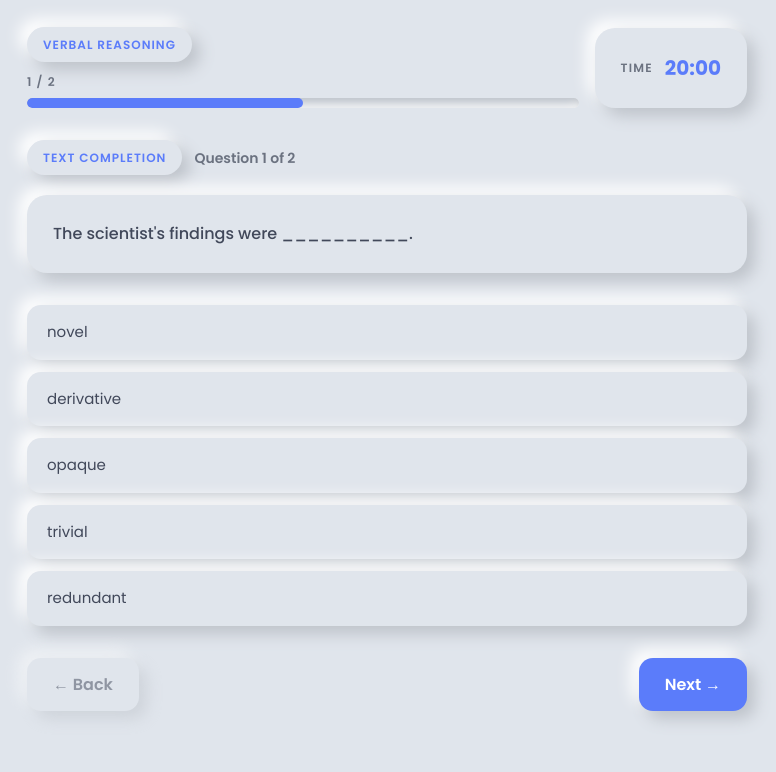
Test: Quiz page smoke › loads questions and advances through the quiz
Expected: the text "The scientist's findings were __________." is shown, [53, 222, 413, 245]
What coordinates should you click on to do the following:
click the button "novel"
I would click on:
 (67, 332)
Its box is [27, 305, 747, 360].
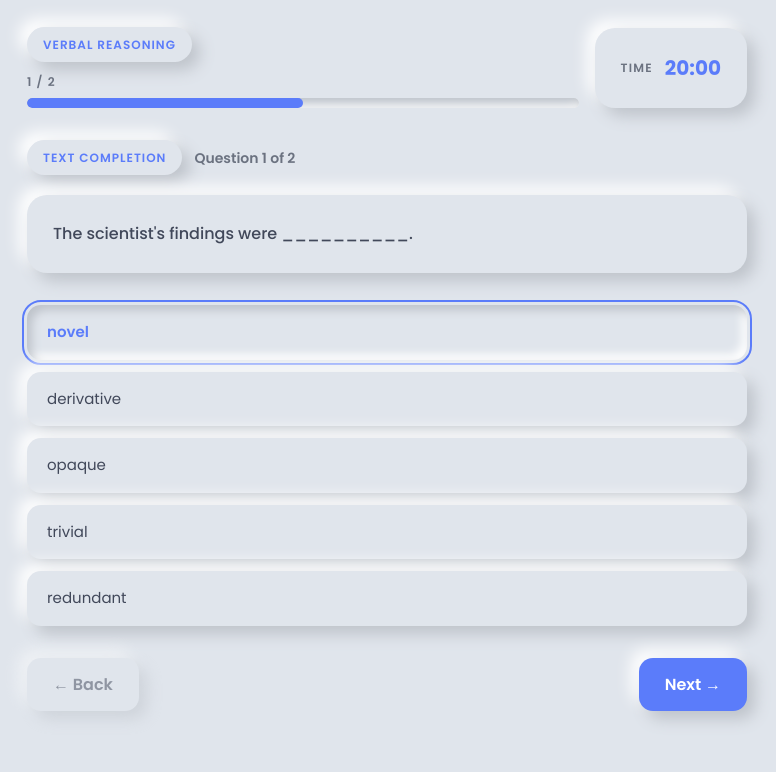
What coordinates should you click on to do the following:
click the button "Next →"
I would click on:
 (693, 685)
Its box is [639, 658, 747, 712].
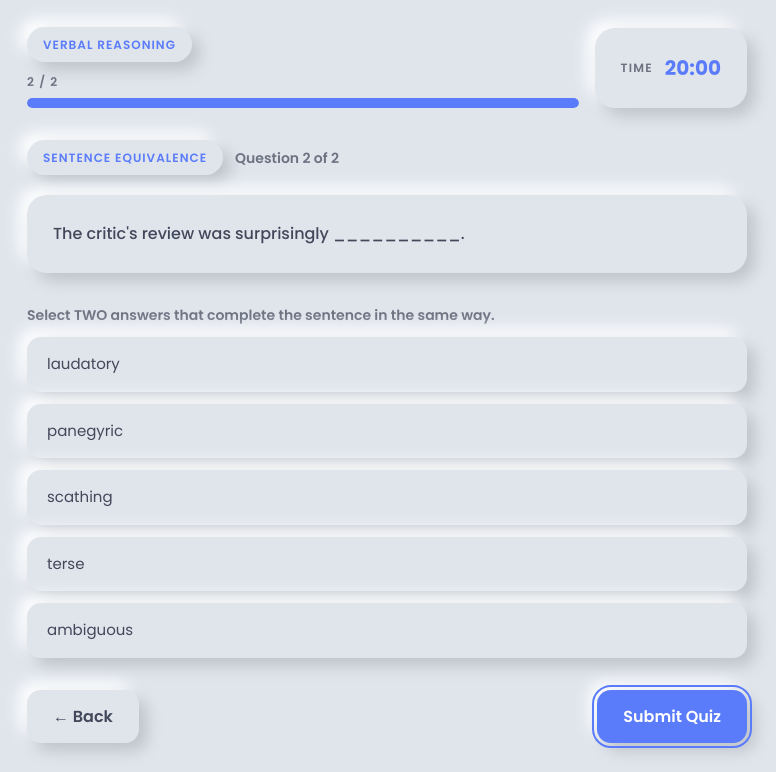
Result: the text "Select TWO answers" is shown at [27, 305, 495, 325]
Result: the text "Question 2 of 2" is shown at [235, 148, 339, 168]
